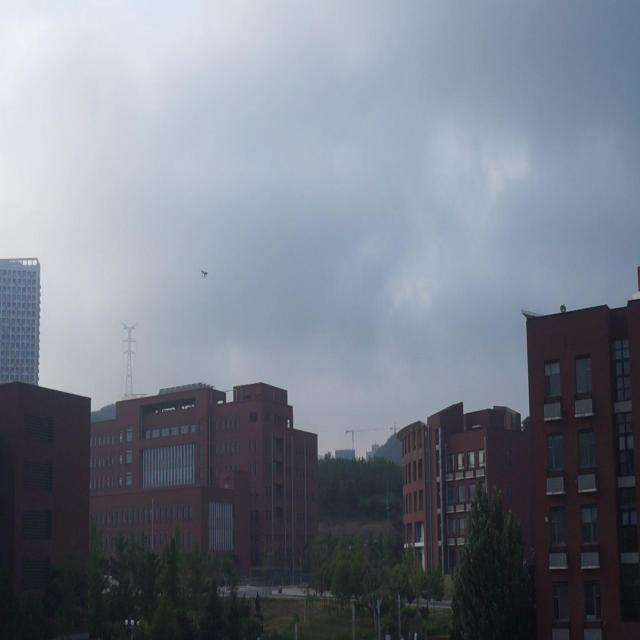UAV: (200, 269, 208, 278)
